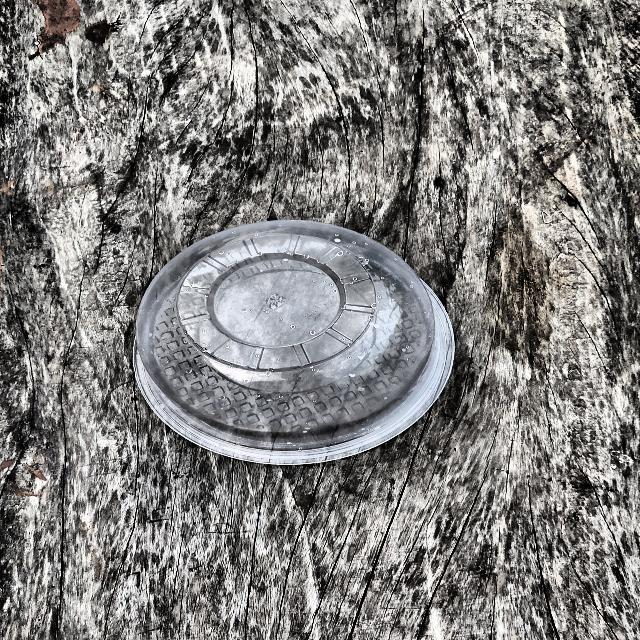plastic container: (118, 206, 468, 477)
